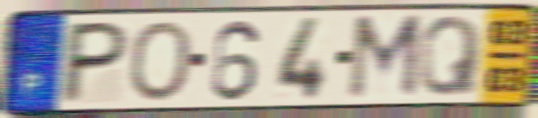4: (273, 14, 330, 103)
6: (208, 17, 263, 104)
M: (345, 11, 426, 103)
O: (126, 18, 196, 104)
P: (55, 19, 134, 107)
Q: (416, 13, 486, 99)
